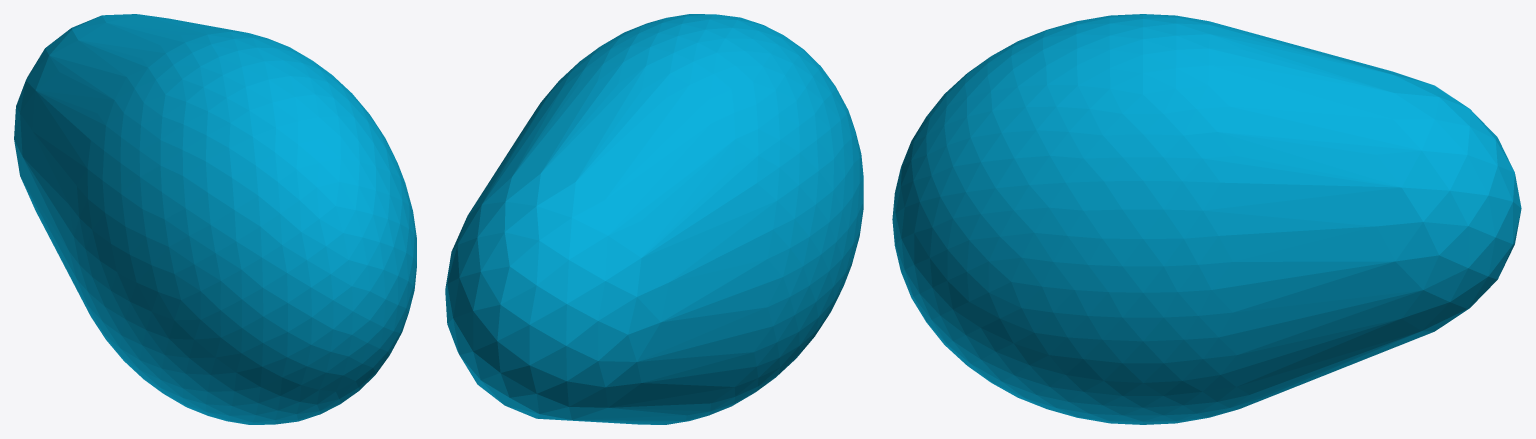
The model's file is mat_plastic_canopy.glb.
The picture shows the model from 3 angles, left to right: view 1: azimuth 30°, elevation 25°; view 2: azimuth 150°, elevation 25°; view 3: azimuth 270°, elevation 25°; orthographic projection. The views are drawn at different scales.
Visible parts, largest first — view 1: geometry_0; view 2: geometry_0; view 3: geometry_0.
Part boxes in pixels (left/top/right/bottom): geometry_0: left=14, top=14, right=416, bottom=424; geometry_0: left=445, top=14, right=863, bottom=424; geometry_0: left=892, top=14, right=1521, bottom=424.
Bounding box in the file's own units: 0.0288 × 0.0352 × 0.0522.
